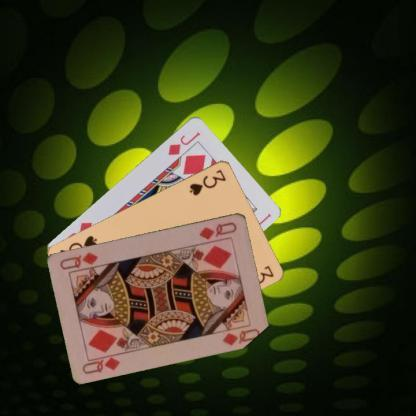3s: (186, 166, 228, 196)
Jd: (165, 128, 202, 156)
Qd: (80, 350, 122, 376), (196, 218, 238, 240)
